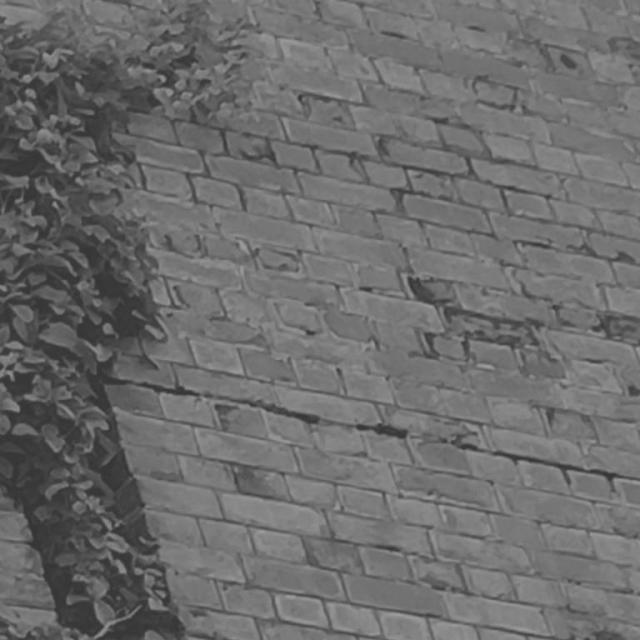crack: (105, 378, 640, 480)
